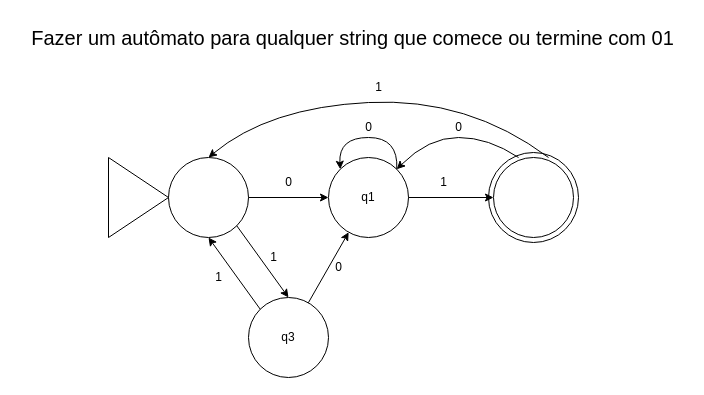
Some shapes in this 704 by 395 pixel diagram are drawn without their labels. The shapes that lost their labels are listed below. From the top down, each one's centre as x and y in pixels, then its label:
point (208, 197): q0
point (533, 197): q2
